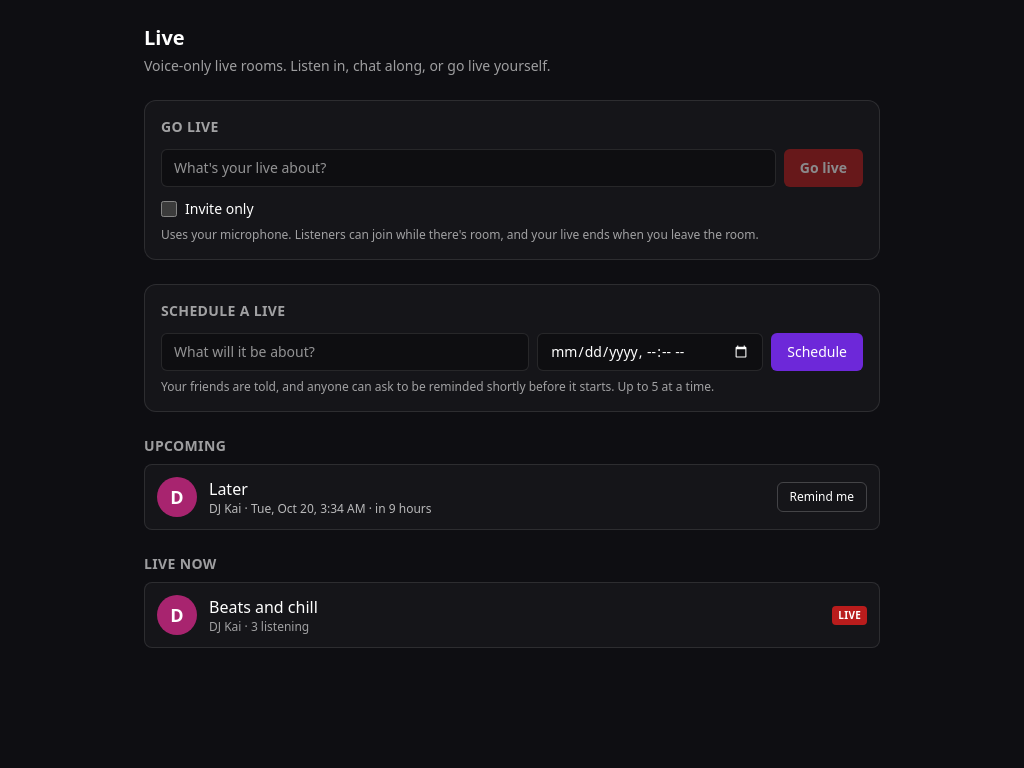
Test case: LivePage: scheduled lives › adds a plan to the list as soon as it is made, in time order
expect the text "Later" is shown: met, box [209,478,248,500]
In the field named "Plan title": (345, 352) [161,333,529,371], type "Soon"
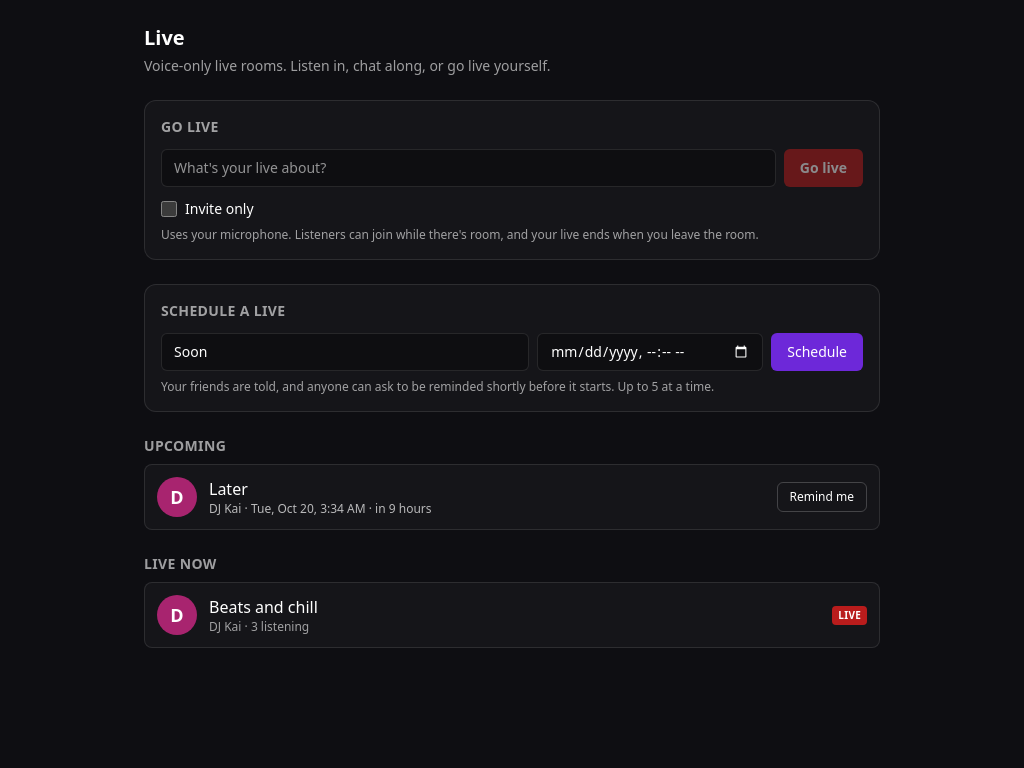
In the field named "Start time": (650, 352) [537,333,763,371], type "2099-01-01T10:00"
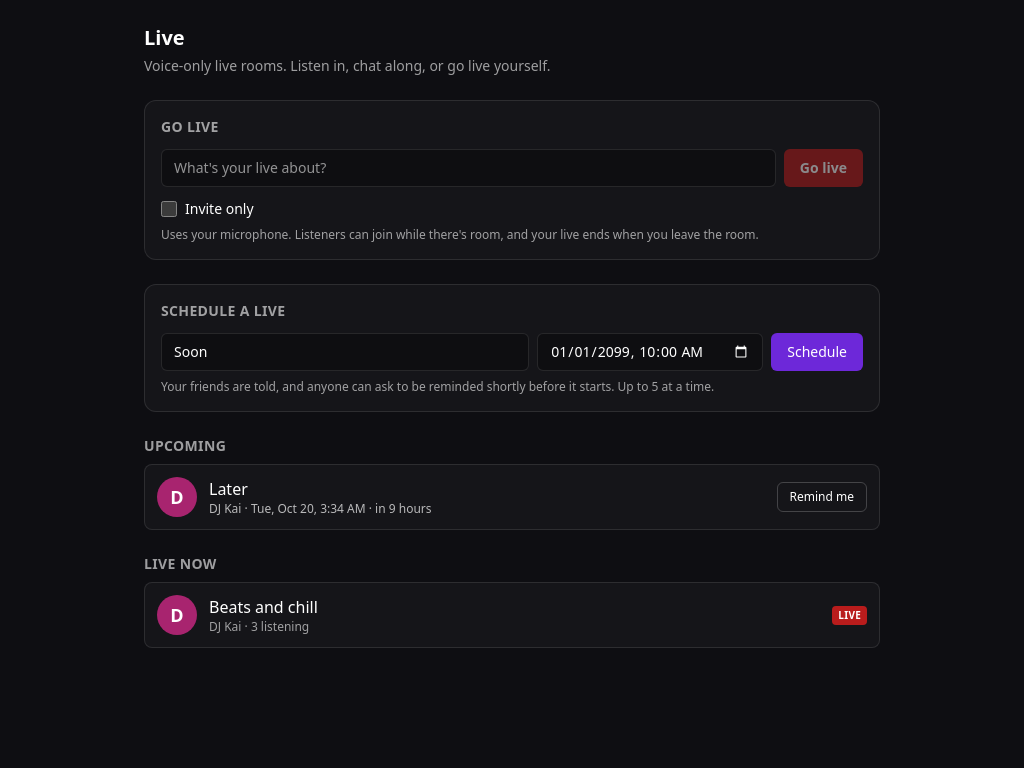
Click the button "Schedule": (817, 352) [771,333,863,371]
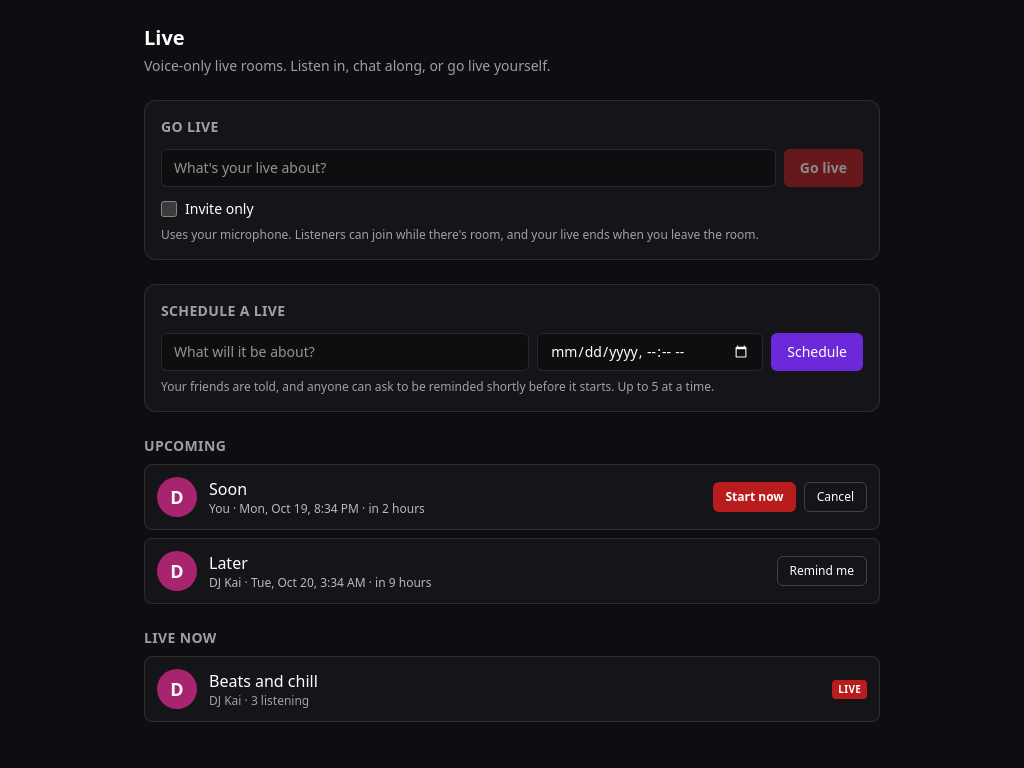
expect the text "Soon" is shown: met, box [209,478,247,500]
